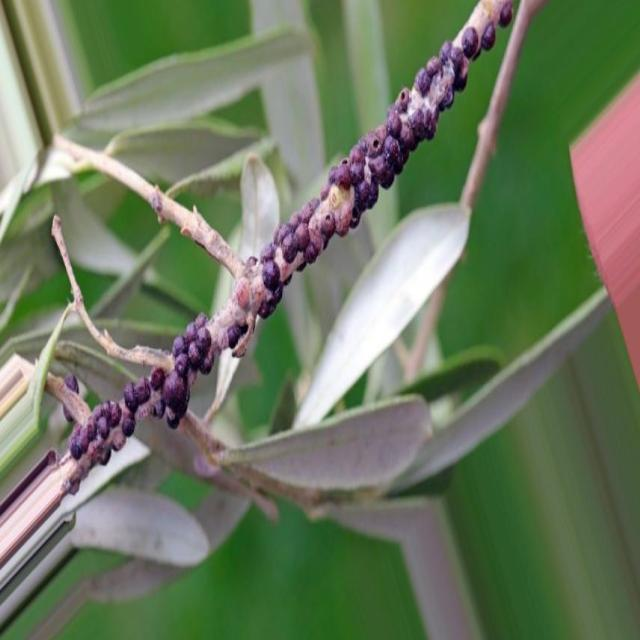BlackScale: (220, 0, 512, 357), (66, 314, 217, 488)
